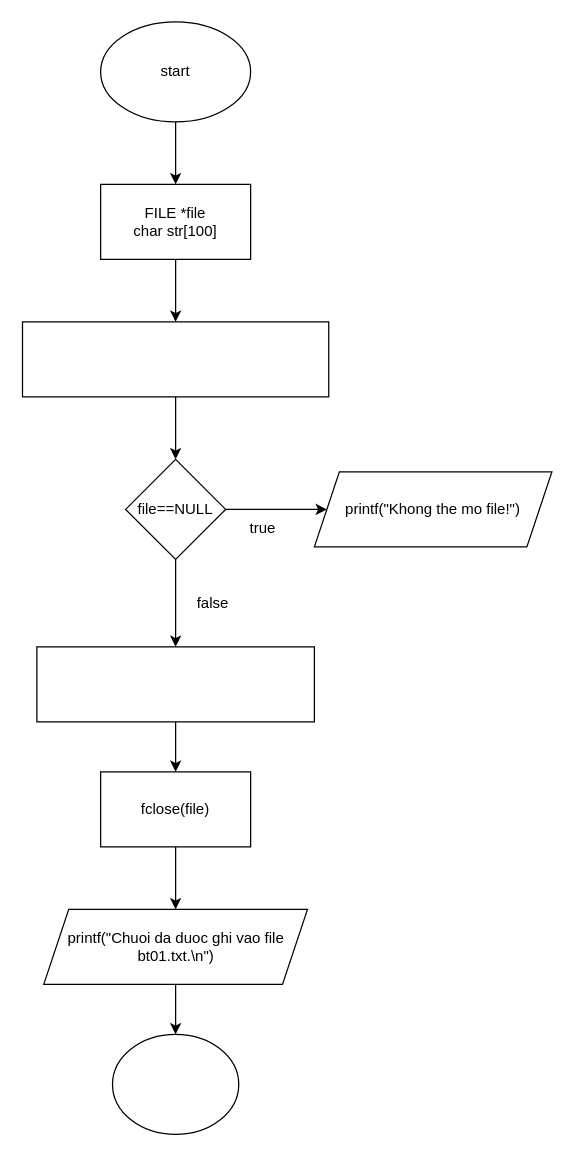
The diagram is 574 pixels wide and 1156 high, and some of its shapes have lost their labels. The shapes that lost their labels are listed below. From the top down, each one's box as (x1, y1, x2, y2) in pixels, then its label:
(21, 321, 329, 397): file = fopen("bt01.txt","w+")
(36, 646, 314, 722): fgets(str, sizeof(str), stdin)
(111, 1033, 239, 1134): end
